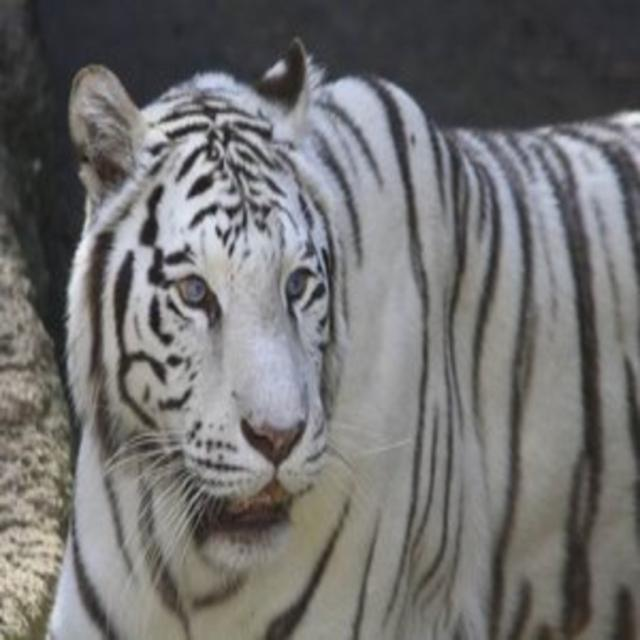Tiger: (32, 25, 640, 640)
